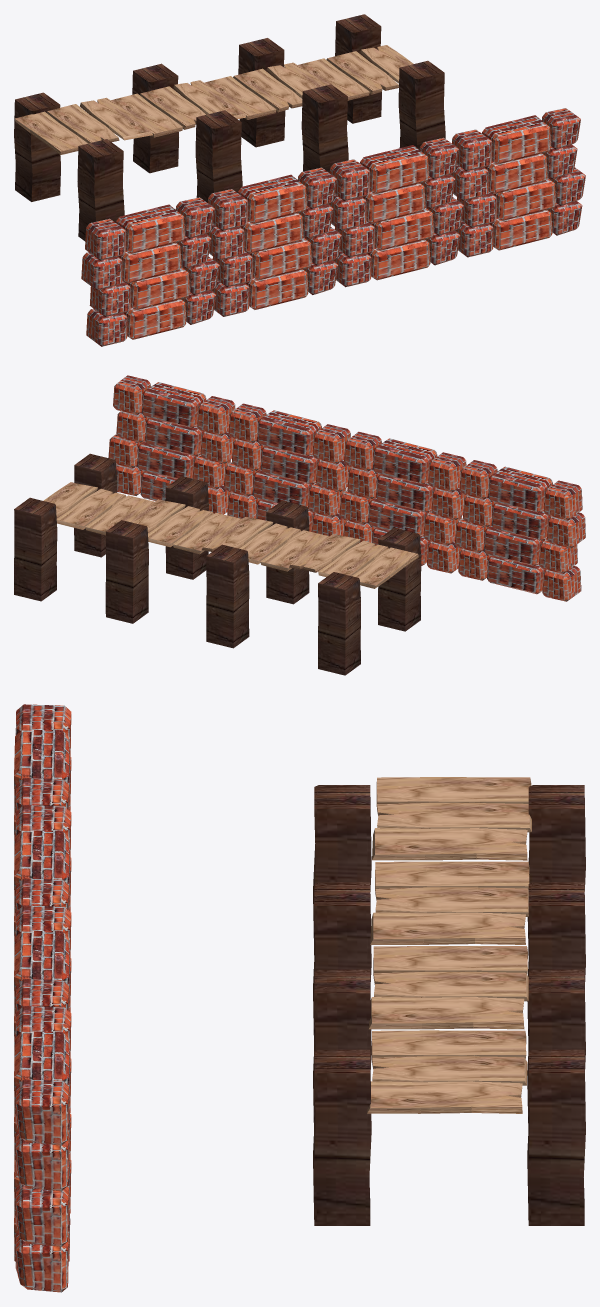
File: bricks.glb
3 views of the same model, one above another, from view 1: azimuth 30°, elevation 25°; view 2: azimuth 150°, elevation 25°; view 3: azimuth 270°, elevation 25° (orthographic). The views are drawn at different scales.
Visible parts, largest first — view 1: Cube, Cube.003, Cube.001, Cube.002, Cube.004, Cube.005, Cube.006, Cube.007, Cube.008, Cube.009; view 2: Cube, Cube.003, Cube.007, Cube.008, Cube.009, Cube.006, Cube.001, Cube.002, Cube.004, Cube.005; view 3: Cube.003, Cube, Cube.009, Cube.005, Cube.001, Cube.006, Cube.002, Cube.007, Cube.008, Cube.004.
Boxes of the visible parts, <box> form: Cube: <box>81,108,585,346</box>; Cube.003: <box>15,45,413,155</box>; Cube.001: <box>77,139,124,241</box>; Cube.002: <box>195,110,242,202</box>; Cube.004: <box>301,84,348,172</box>; Cube.005: <box>398,60,445,149</box>; Cube.006: <box>14,92,60,201</box>; Cube.007: <box>132,63,178,173</box>; Cube.008: <box>238,38,285,147</box>; Cube.009: <box>335,14,381,123</box>; Cube: <box>108,375,585,601</box>; Cube.003: <box>43,482,418,588</box>; Cube.007: <box>206,544,249,648</box>; Cube.008: <box>105,520,148,623</box>; Cube.009: <box>14,497,57,601</box>; Cube.006: <box>318,572,360,675</box>; Cube.001: <box>378,528,421,631</box>; Cube.002: <box>266,500,309,604</box>; Cube.004: <box>165,476,208,579</box>; Cube.005: <box>74,453,117,557</box>; Cube.003: <box>367,777,531,1113</box>; Cube: <box>14,704,71,1292</box>; Cube.009: <box>527,1049,585,1225</box>; Cube.005: <box>313,1049,371,1225</box>; Cube.001: <box>313,785,371,954</box>; Cube.006: <box>527,785,585,955</box>; Cube.002: <box>313,882,371,1048</box>; Cube.007: <box>527,882,585,1048</box>; Cube.008: <box>527,969,585,1128</box>; Cube.004: <box>313,969,371,1128</box>.
Bounding box in the file's own units: 34.31 × 7.66 × 20.42.
3 materials, 3 textured.
